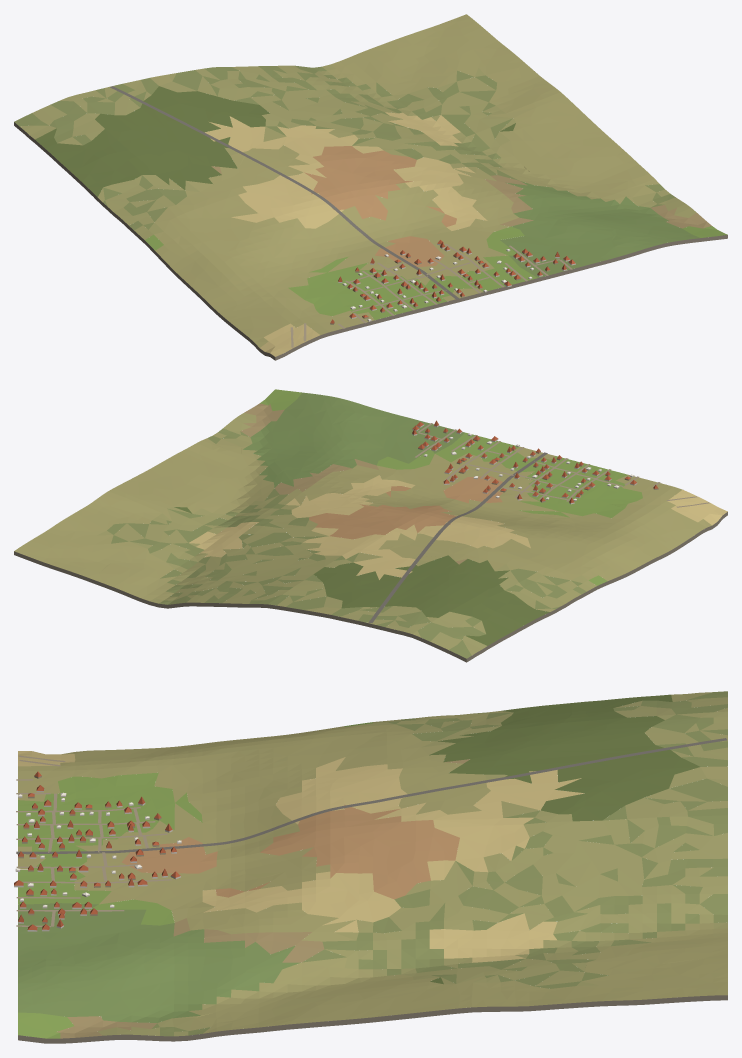
Rendered from parca_+0_+0-uzak.glb.
3 views of the same model, one above another, from view 1: azimuth 30°, elevation 25°; view 2: azimuth 150°, elevation 25°; view 3: azimuth 270°, elevation 25° (orthographic). The views are drawn at different scales.
Visible parts, largest first — view 1: parca_+0_+0_arazi_uzak, parca_+0_+0_yollar_uzak, parca_+0_+0_yapilar_uzak; view 2: parca_+0_+0_arazi_uzak, parca_+0_+0_yapilar_uzak, parca_+0_+0_yollar_uzak; view 3: parca_+0_+0_arazi_uzak, parca_+0_+0_yollar_uzak, parca_+0_+0_yapilar_uzak.
Part boxes in pixels (x1=…): parca_+0_+0_arazi_uzak: x1=14, y1=14, x2=727, y2=360; parca_+0_+0_yollar_uzak: x1=110, y1=86, x2=572, y2=347; parca_+0_+0_yapilar_uzak: x1=330, y1=240, x2=575, y2=324; parca_+0_+0_arazi_uzak: x1=14, y1=389, x2=727, y2=662; parca_+0_+0_yapilar_uzak: x1=412, y1=420, x2=658, y2=504; parca_+0_+0_yollar_uzak: x1=368, y1=423, x2=709, y2=623; parca_+0_+0_arazi_uzak: x1=18, y1=691, x2=727, y2=1043; parca_+0_+0_yollar_uzak: x1=16, y1=738, x2=726, y2=927; parca_+0_+0_yapilar_uzak: x1=14, y1=771, x2=181, y2=931.
Size of the model in its own units: 1000 by 131 by 1005.
